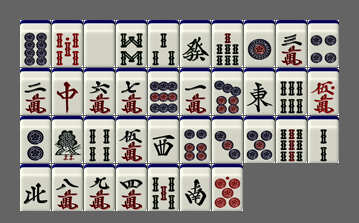0m: (308, 68, 339, 115)
0p: (212, 164, 243, 211)
0s: (52, 20, 83, 67)
1m: (180, 68, 211, 115)
1p: (244, 20, 275, 67)
1s: (52, 116, 83, 163)
1z: (244, 68, 275, 115)
2m: (20, 68, 51, 115)
2p: (20, 116, 51, 163)
2s: (308, 116, 339, 163)
2z: (180, 164, 211, 211)
3m: (276, 20, 307, 67)
3p: (212, 116, 243, 163)
3s: (148, 20, 179, 67)
3z: (148, 116, 179, 163)
4m: (116, 164, 147, 211)
4p: (308, 20, 339, 67)
4s: (84, 116, 115, 163)
4z: (20, 164, 51, 211)
5m: (116, 116, 147, 163)
5p: (244, 116, 275, 163)
5s: (148, 164, 179, 211)
5z: (84, 20, 115, 67)
6m: (84, 68, 115, 115)
6p: (180, 116, 211, 163)
6s: (276, 68, 307, 115)
6z: (180, 20, 211, 67)
7m: (116, 68, 147, 115)
7p: (212, 68, 243, 115)
7s: (212, 20, 243, 67)
7z: (52, 68, 83, 115)
8m: (52, 164, 83, 211)
8p: (20, 20, 51, 67)
8s: (116, 20, 147, 67)
9m: (84, 164, 115, 211)
9p: (148, 68, 179, 115)
9s: (276, 116, 307, 163)
